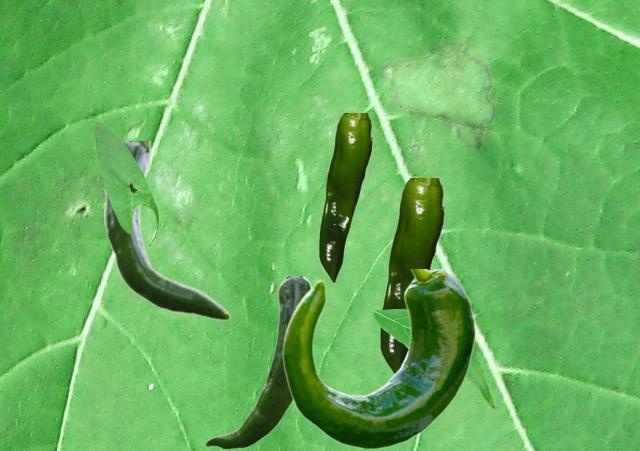green_chili: (282, 269, 475, 447), (104, 141, 230, 319), (204, 276, 311, 449), (379, 178, 443, 373), (318, 113, 371, 282)
